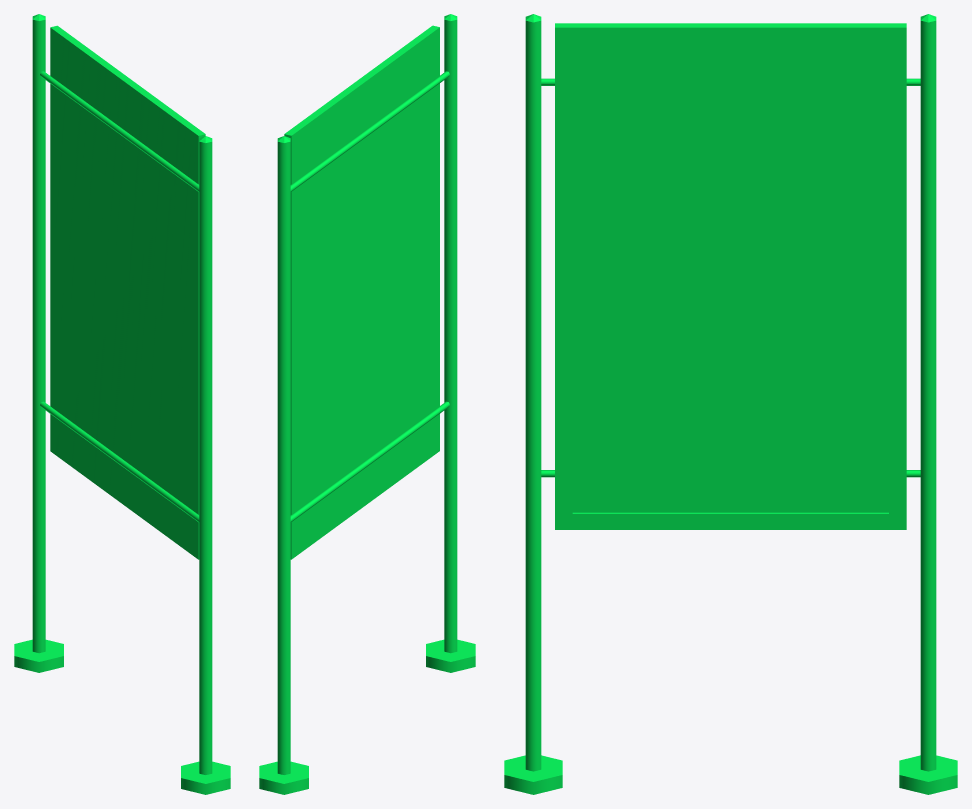
File: parking_board.FBX
The picture shows the model from 3 angles, left to right: view 1: azimuth 30°, elevation 25°; view 2: azimuth 150°, elevation 25°; view 3: azimuth 270°, elevation 25°; orthographic projection. The views are drawn at different scales.
Parts seen in each view (by area): view 1: parking_board; view 2: parking_board; view 3: parking_board.
Boxes of the visible parts, box(x1,y1,x2,y2) form: parking_board: box(14, 14, 230, 794); parking_board: box(259, 14, 475, 794); parking_board: box(504, 14, 957, 794).
Bounding box in the file's own units: 0.1467 × 1.84 × 0.9845.
